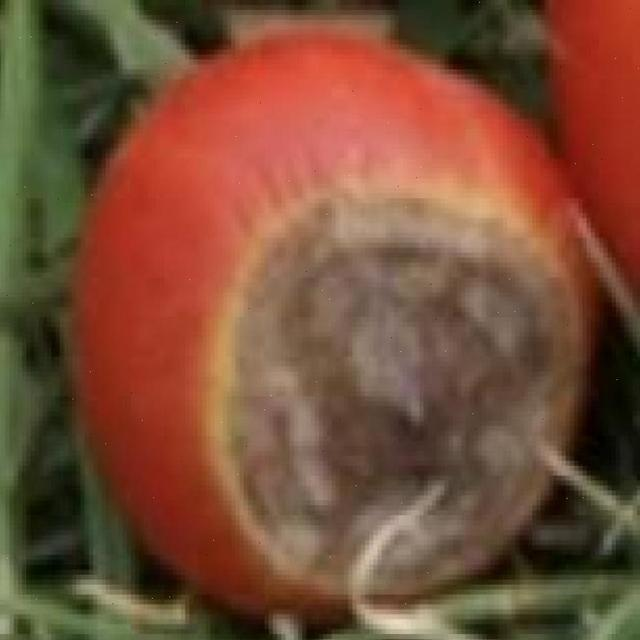Blossom End Rot Fruit: (134, 110, 387, 401)
